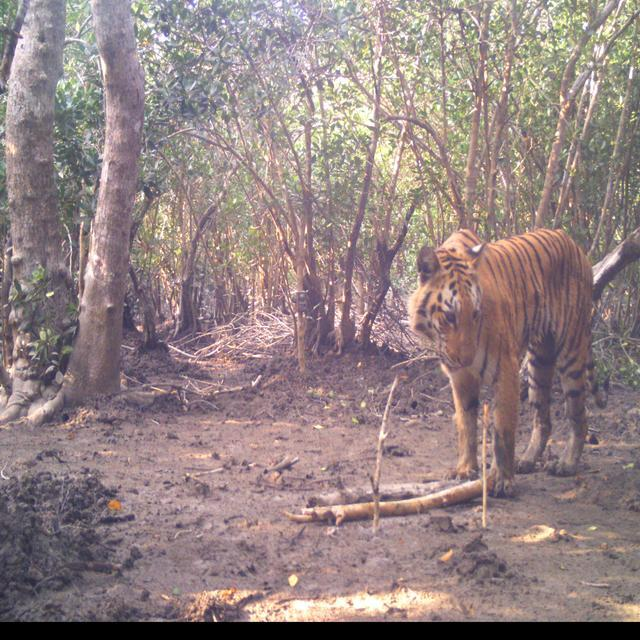tiger: (406, 225, 602, 498)
